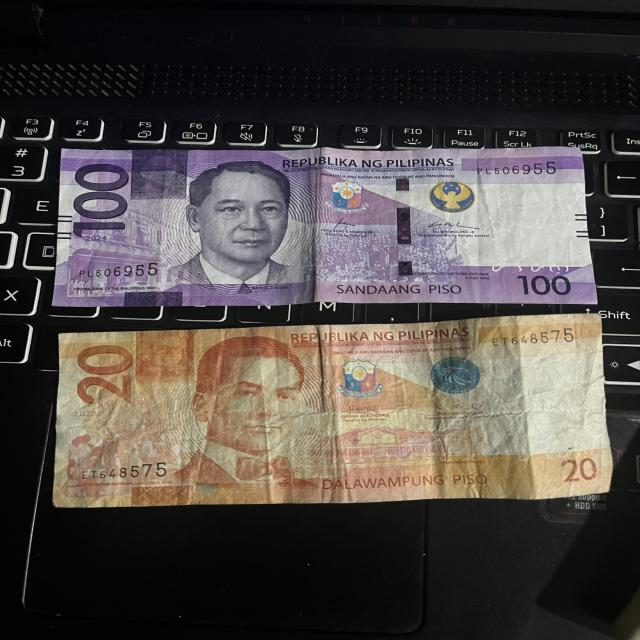concealed_value: (135, 330, 198, 384), (127, 152, 187, 200)
security_thread: (392, 148, 416, 300)
see_through_mark: (473, 248, 585, 280)
serial_number: (470, 157, 563, 184), (488, 327, 577, 353), (74, 460, 177, 482), (71, 262, 167, 280)
value: (59, 160, 142, 242), (62, 337, 142, 416)
watermark: (467, 172, 568, 265)
